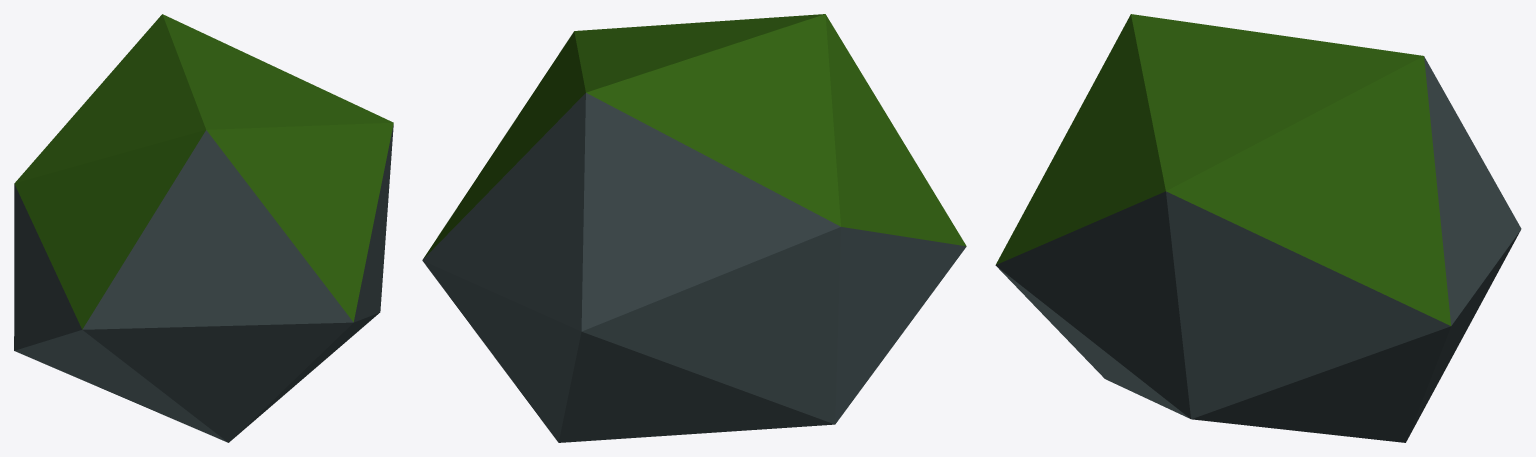
File: world_boulder_mossy_s.fbx
The picture shows the model from 3 angles, left to right: view 1: azimuth 30°, elevation 25°; view 2: azimuth 150°, elevation 25°; view 3: azimuth 270°, elevation 25°; orthographic projection. The views are drawn at different scales.
Parts seen in each view (by area): view 1: world_boulder_mossy_s; view 2: world_boulder_mossy_s; view 3: world_boulder_mossy_s.
Boxes of the visible parts, x1,y1,x2,y2 form: world_boulder_mossy_s: (14, 14, 393, 442); world_boulder_mossy_s: (422, 14, 966, 442); world_boulder_mossy_s: (995, 14, 1521, 442).
Bounding box in the file's own units: 229 × 207 × 267.
